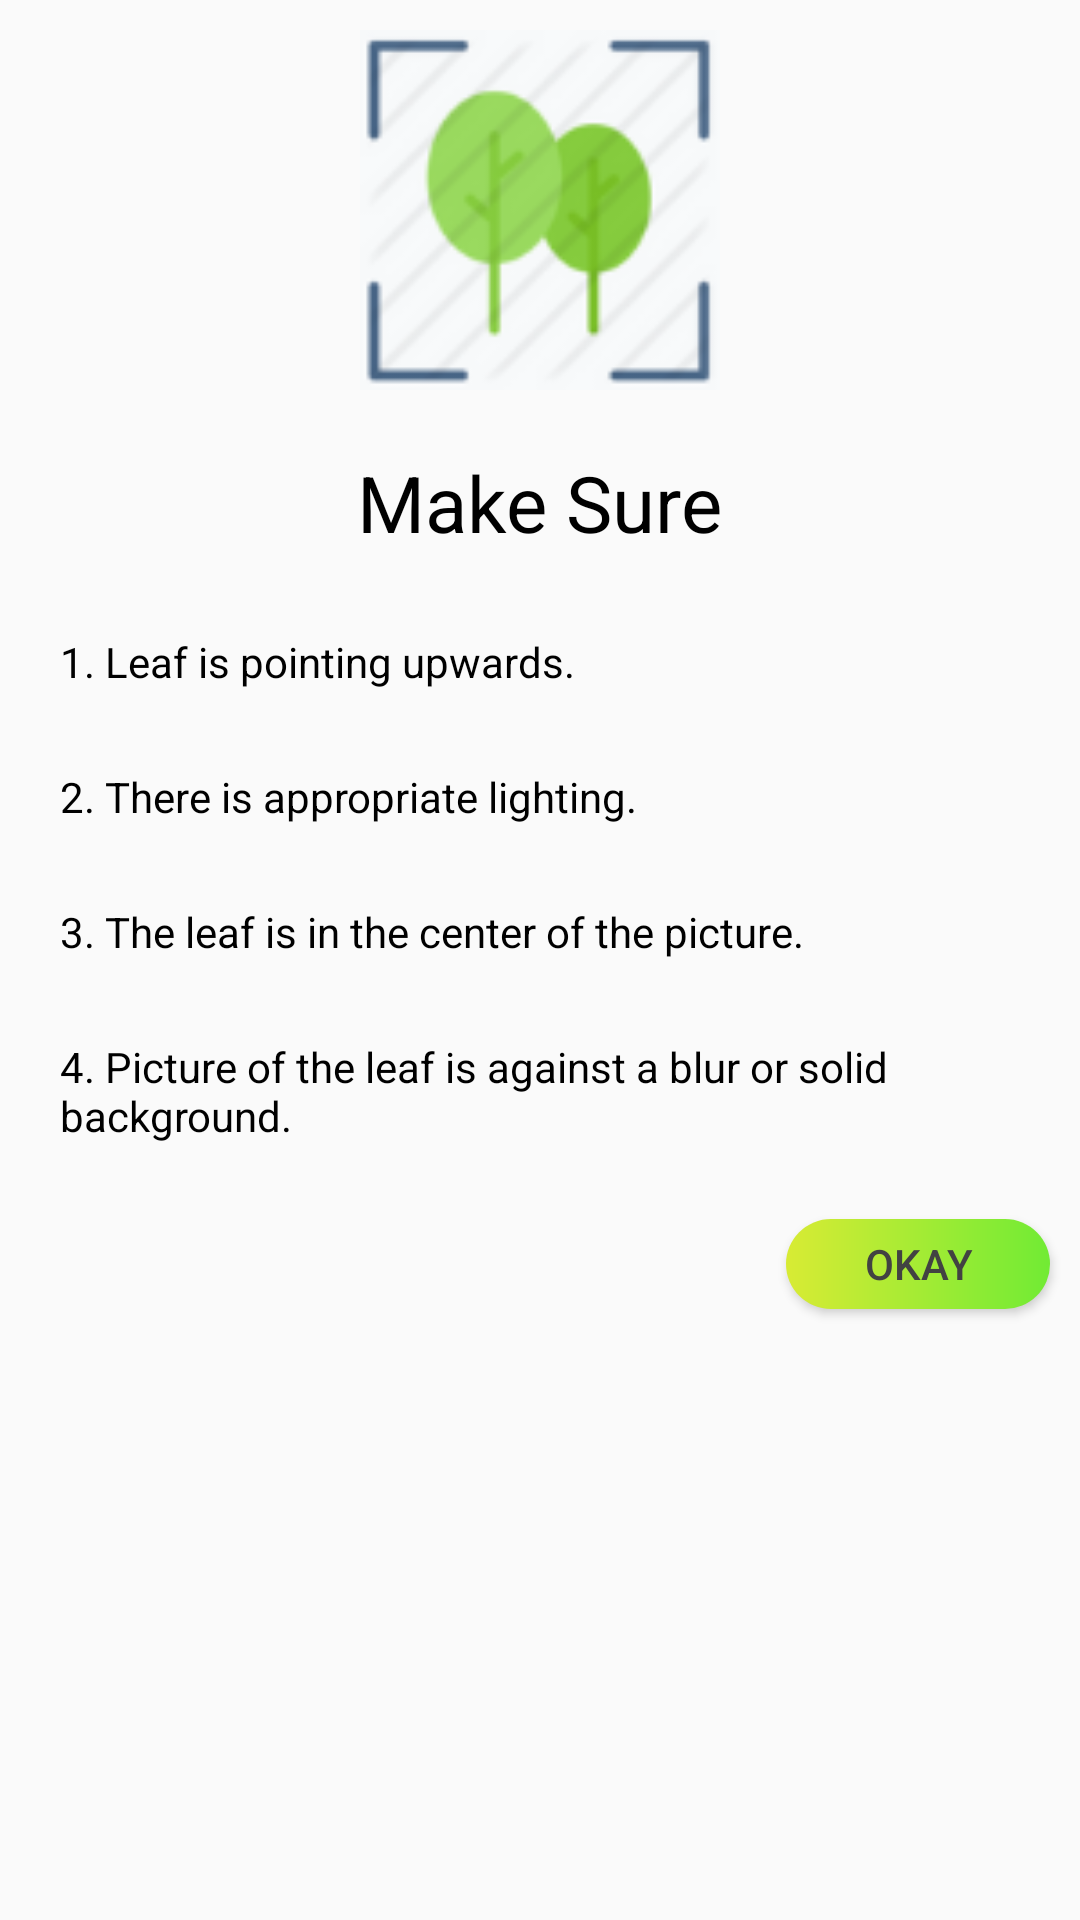

Where icons sit on this 1080px x 1920px app screen, as BBox(x1, y1, x2, y2):
capture instructions: BBox(366, 39, 711, 383)
